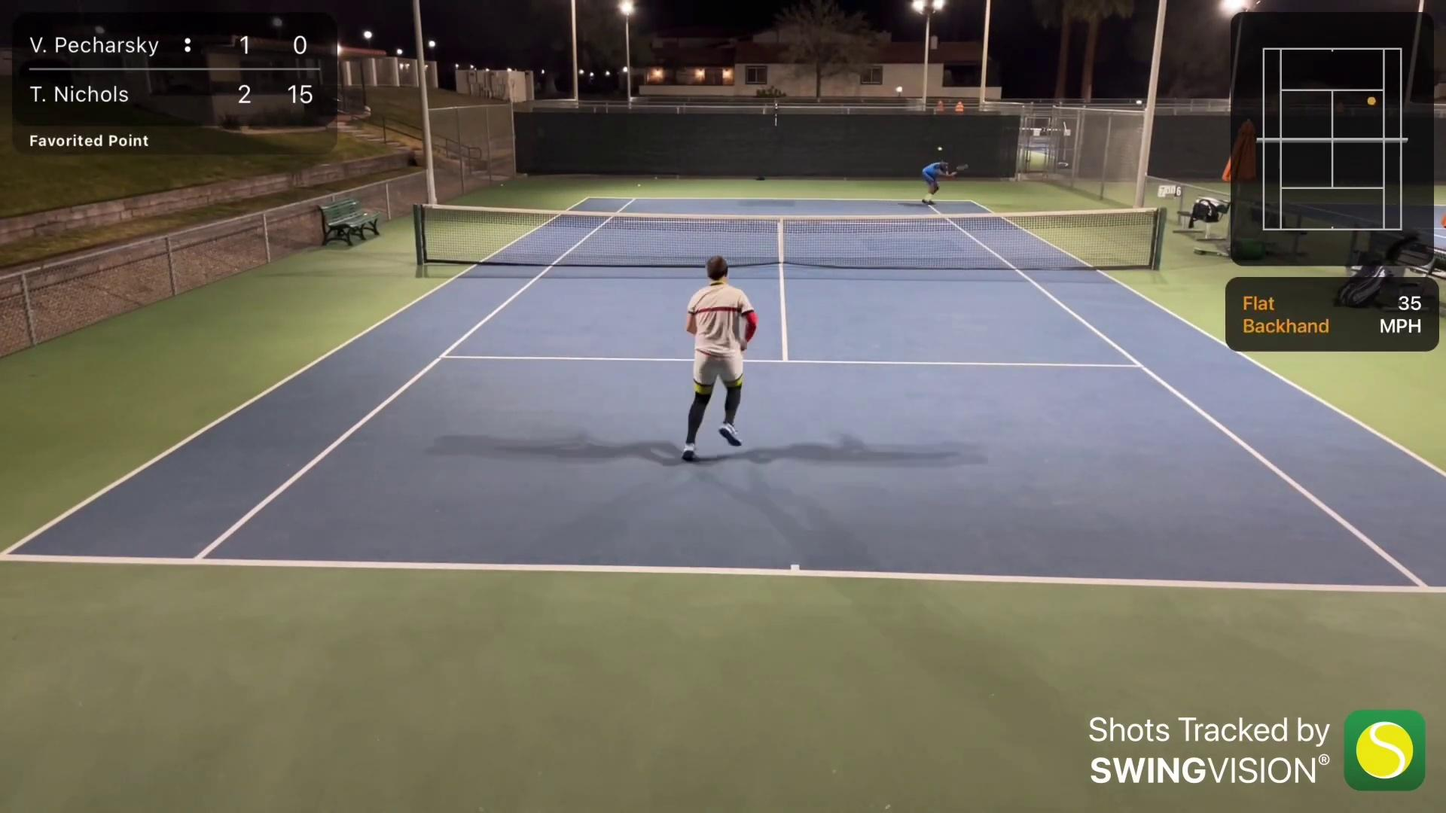ball: (937, 144, 943, 152)
